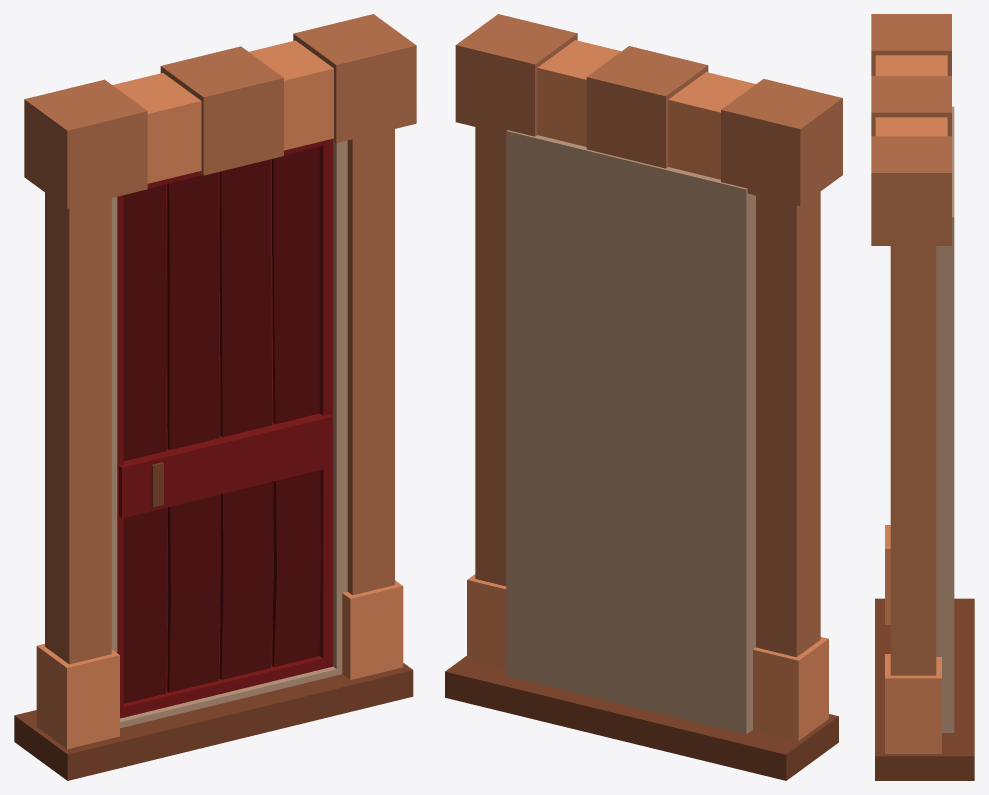
File: village_pack_door_3.glb
3 renders of one model, left to right at view 1: azimuth 30°, elevation 25°; view 2: azimuth 150°, elevation 25°; view 3: azimuth 270°, elevation 25°, orthographic. The views are drawn at different scales.
Visible parts, largest first — view 1: door 3_brick 1_0; view 2: door 3_brick 1_0; view 3: door 3_brick 1_0.
Part boxes in pixels (bbox=[...]): door 3_brick 1_0: bbox=[14, 14, 416, 780]; door 3_brick 1_0: bbox=[445, 14, 842, 780]; door 3_brick 1_0: bbox=[871, 14, 974, 780].
Bounding box in the file's own units: 1.33 × 2.38 × 0.3657.
